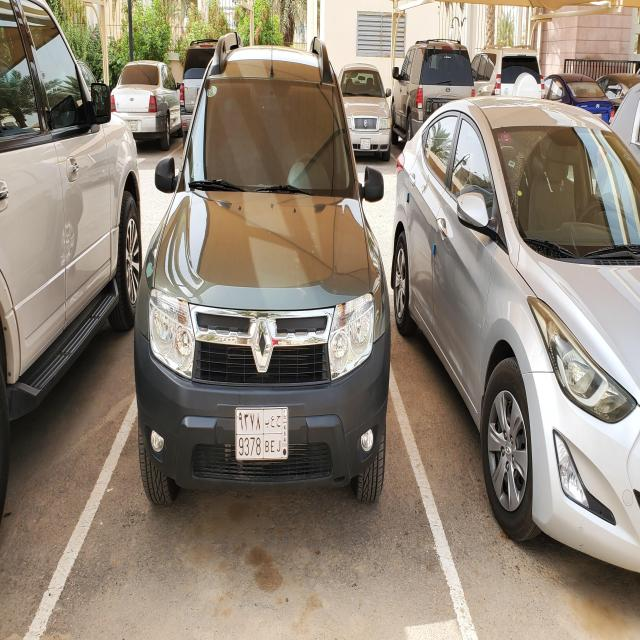license_plate: (235, 406, 288, 460)
